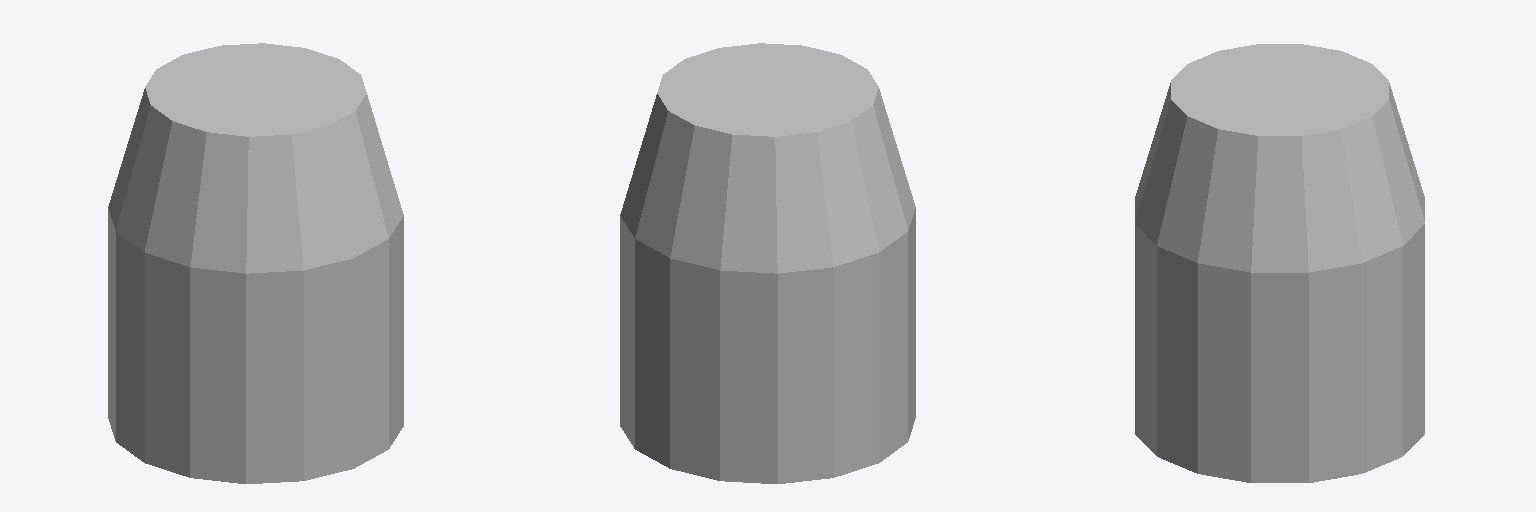
Rendered from Vega_Habitation_1_1_Collider.obj.
3 views of the same model, side by side, from view 1: azimuth 30°, elevation 25°; view 2: azimuth 150°, elevation 25°; view 3: azimuth 270°, elevation 25° (orthographic).
Parts seen in each view (by area): view 1: Vega_Habitation_1_1_Collider; view 2: Vega_Habitation_1_1_Collider; view 3: Vega_Habitation_1_1_Collider.
Part boxes in pixels (bbox=[...]): Vega_Habitation_1_1_Collider: bbox=[108, 43, 403, 483]; Vega_Habitation_1_1_Collider: bbox=[620, 43, 915, 483]; Vega_Habitation_1_1_Collider: bbox=[1135, 44, 1424, 482].
Size of the model in its own units: 1.25 by 1.57 by 1.25.